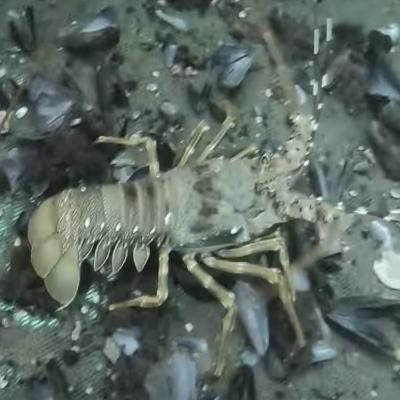lobster: (28, 138, 315, 316)
